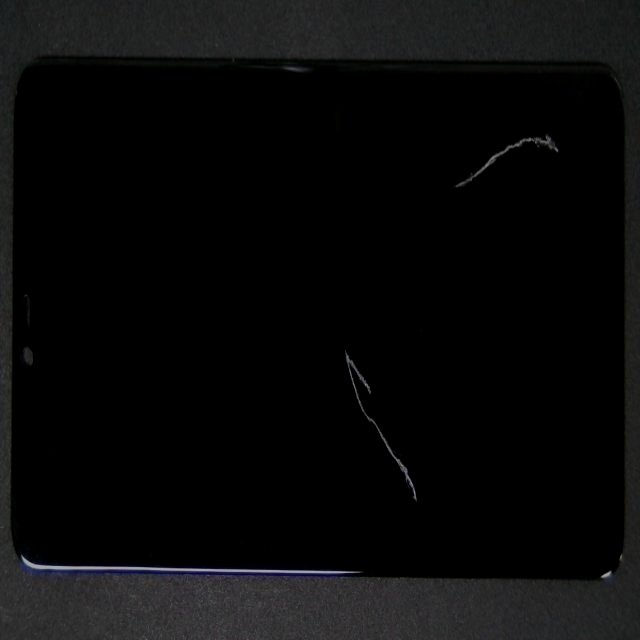scratch: (262, 332, 609, 640), (281, 112, 640, 252)
